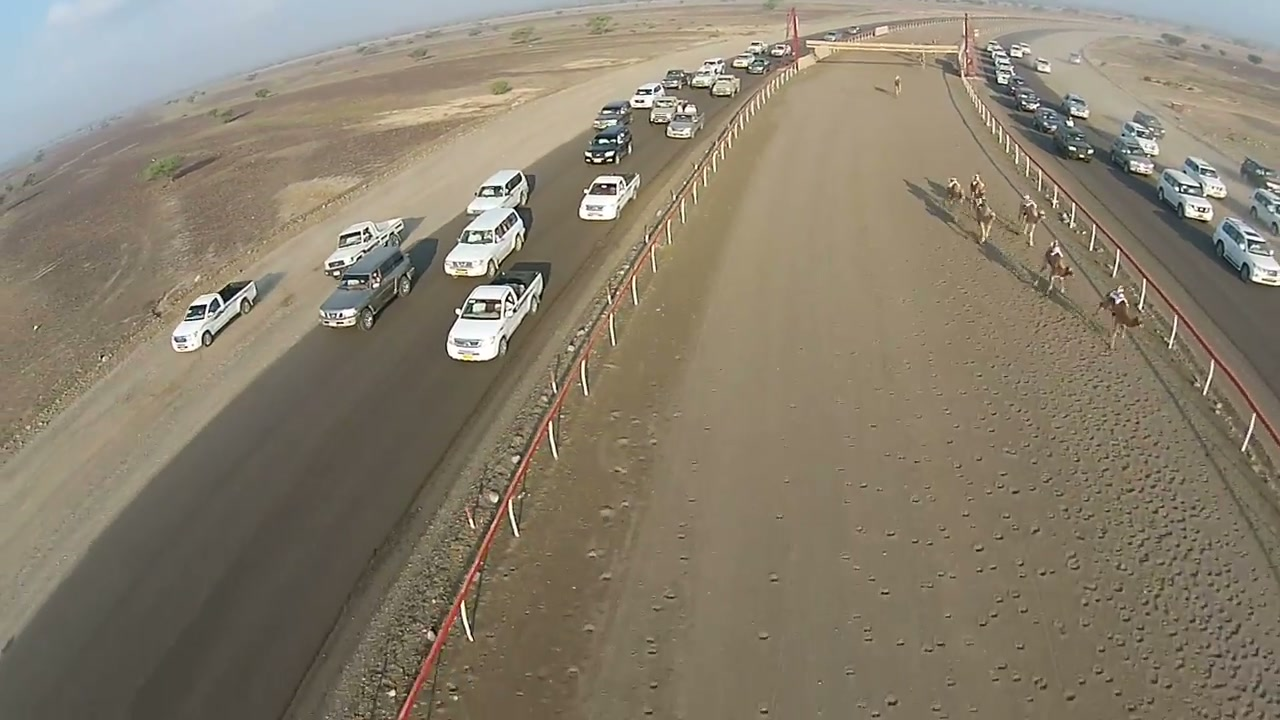animal_foot_print: (910, 271, 1273, 708)
